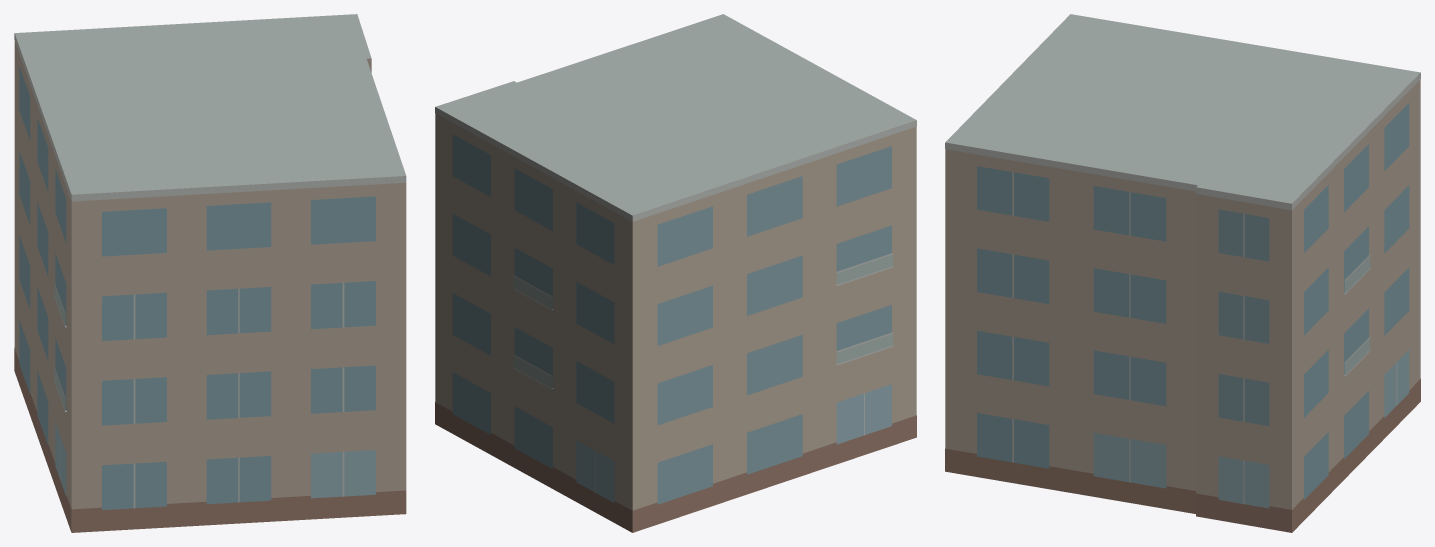
The model's file is survey-upis-32502103.glb.
3 renders of one model, left to right at view 1: azimuth 30°, elevation 25°; view 2: azimuth 150°, elevation 25°; view 3: azimuth 270°, elevation 25°, orthographic. The views are drawn at different scales.
Visible parts, largest first — view 1: survey-upis-32502103.tmp; view 2: survey-upis-32502103.tmp; view 3: survey-upis-32502103.tmp.
Boxes of the visible parts, x1,y1,x2,y2 form: survey-upis-32502103.tmp: (14,14,406,532); survey-upis-32502103.tmp: (435,14,916,532); survey-upis-32502103.tmp: (945,14,1420,532).
Size of the model in its own units: 15.12 by 12.22 by 16.02.
